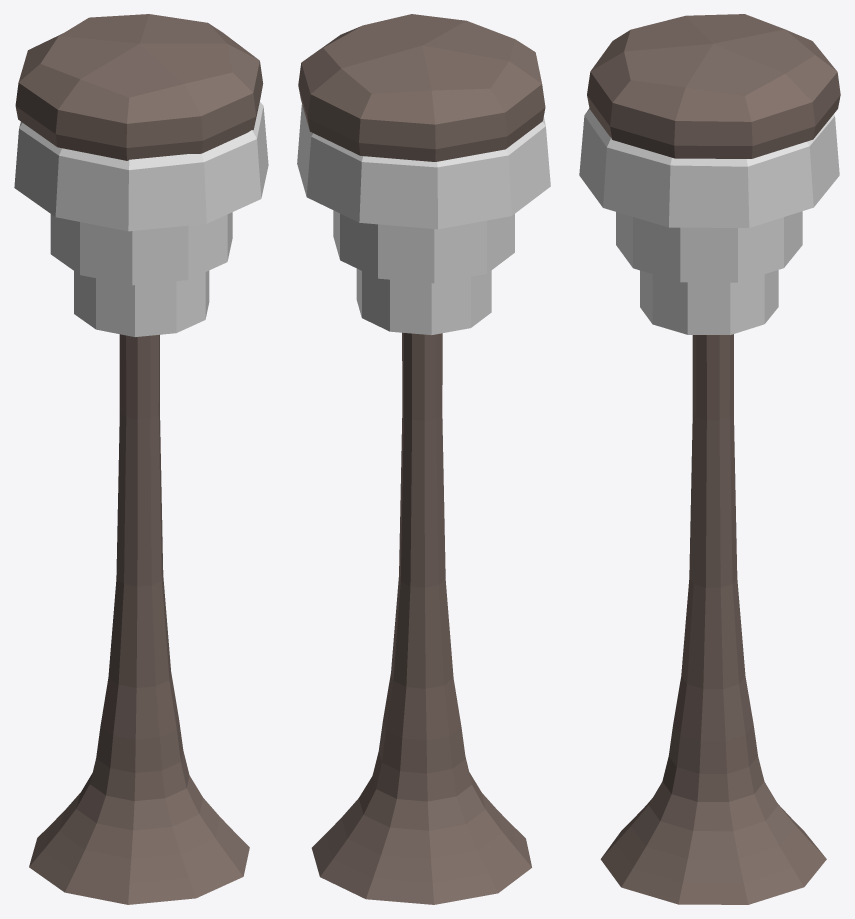
File: Lamp.fbx
3 renders of one model, left to right at view 1: azimuth 30°, elevation 25°; view 2: azimuth 150°, elevation 25°; view 3: azimuth 270°, elevation 25°, orthographic.
Parts seen in each view (by area): view 1: Lamp; view 2: Lamp; view 3: Lamp.
Boxes of the visible parts, box(x1,y1,x2,y2) form: Lamp: box(14, 14, 268, 904); Lamp: box(297, 14, 550, 904); Lamp: box(579, 14, 840, 904).
Bounding box in the file's own units: 267 × 964 × 280.
